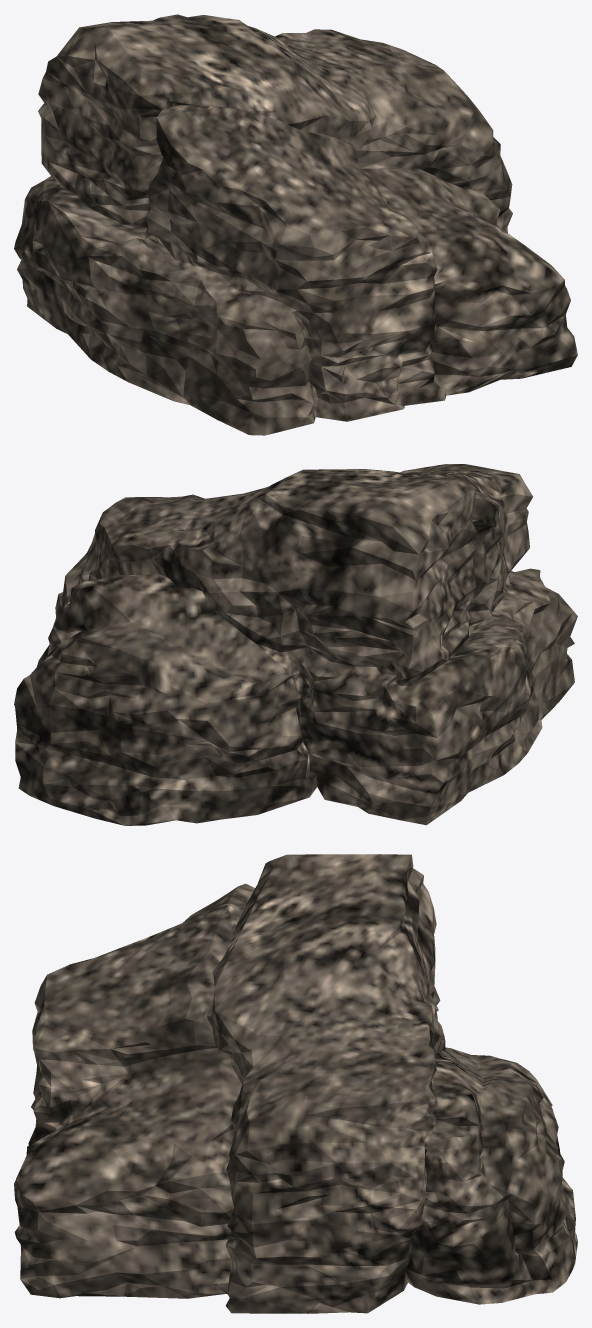
File: SM_ION_Rectangular_Rock_01.fbx
The picture shows the model from 3 angles, top to bottom: view 1: azimuth 30°, elevation 25°; view 2: azimuth 150°, elevation 25°; view 3: azimuth 270°, elevation 25°; orthographic projection. The views are drawn at different scales.
Parts seen in each view (by area): view 1: SM_ION_Rectangular_Rock_01.mo; view 2: SM_ION_Rectangular_Rock_01.mo; view 3: SM_ION_Rectangular_Rock_01.mo.
Part boxes in pixels (x1,y1,x2,y2): SM_ION_Rectangular_Rock_01.mo: [14, 14, 577, 435]; SM_ION_Rectangular_Rock_01.mo: [14, 464, 577, 825]; SM_ION_Rectangular_Rock_01.mo: [14, 854, 577, 1313].
Size of the model in its own units: 473 by 305 by 526.
